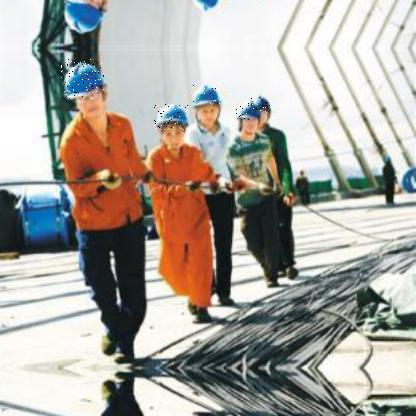safetyhelmet: (61, 59, 105, 100), (154, 104, 189, 132), (190, 82, 222, 107), (235, 102, 263, 122), (250, 96, 272, 116)
